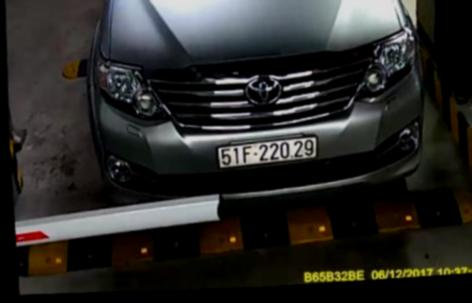License_Plate: (207, 122, 322, 172)
